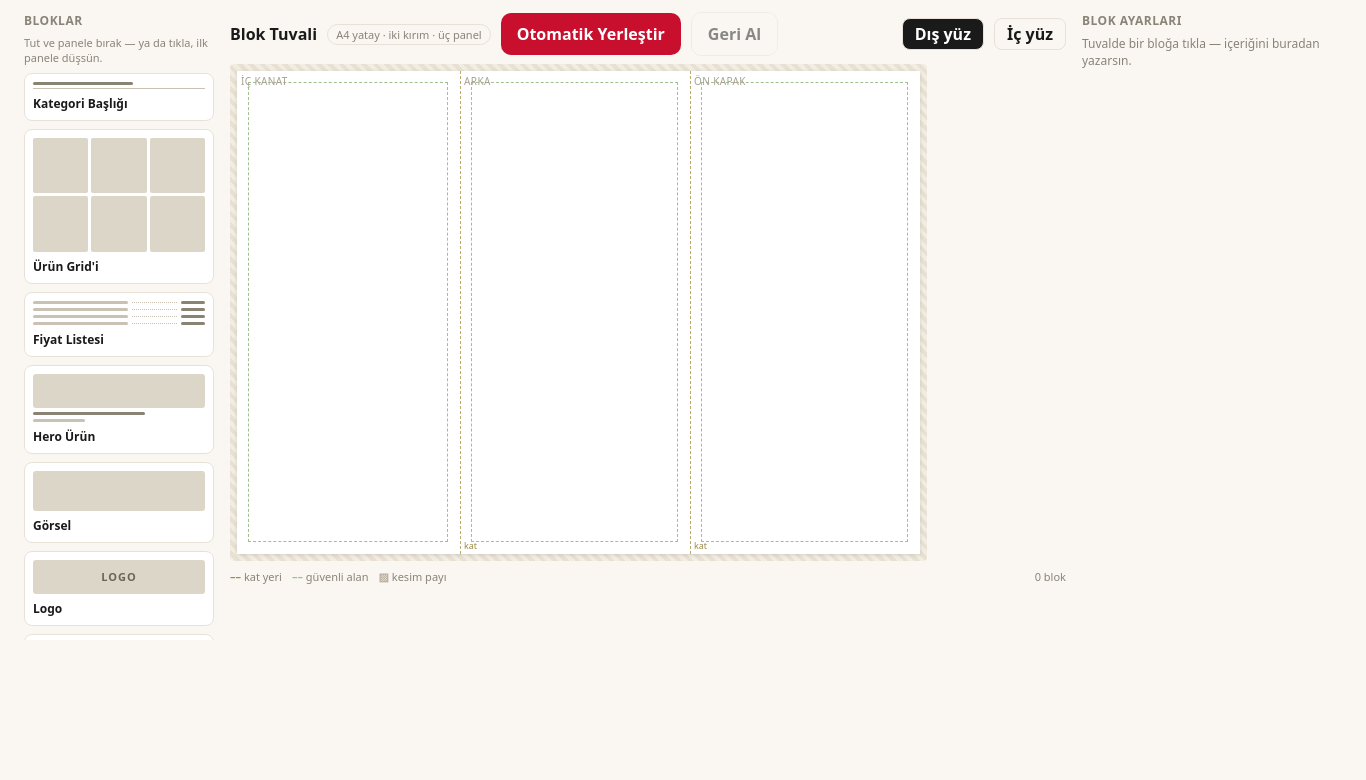
Scenario: Denetçi — seçim ve boş durum › blok eklenince denetçi O bloğun başlığını gösterir
What coordinates should you click on to do the following:
click the button "Kategori Başlığı"
I would click on:
 (119, 97)
Its box is [24,73,214,121].
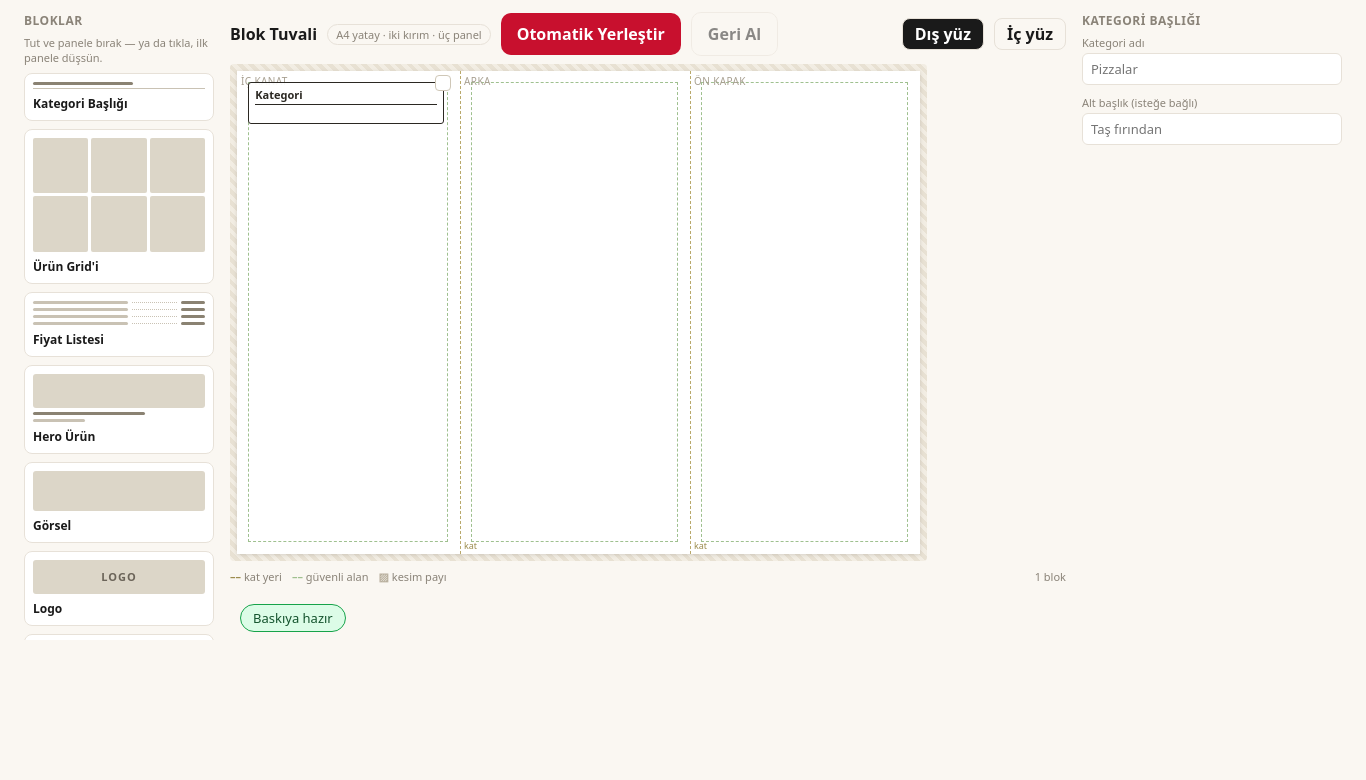
Now the heading "Kategori Başlığı" is shown, box [1082,12,1201,29]
